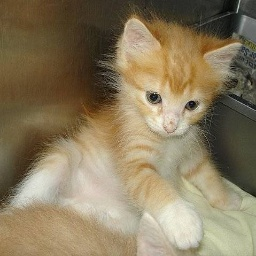cat: (19, 13, 241, 252)
